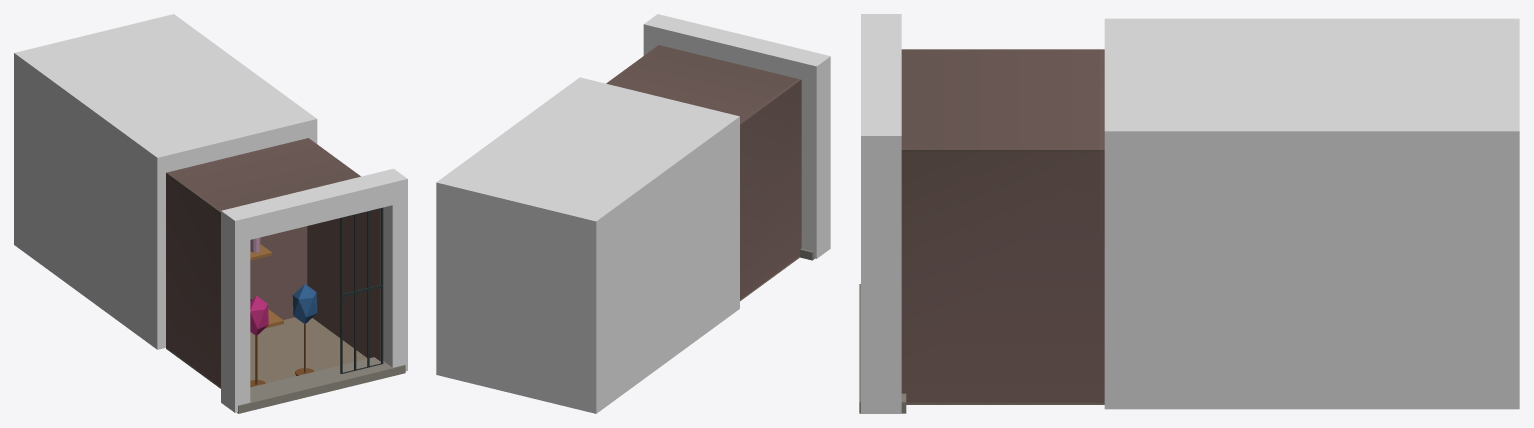
File: tret_tiem_may_32.glb
The picture shows the model from 3 angles, left to right: view 1: azimuth 30°, elevation 25°; view 2: azimuth 150°, elevation 25°; view 3: azimuth 270°, elevation 25°; orthographic projection. The views are drawn at different scales.
Visible parts, largest first — view 1: tret_tiem_may_32; view 2: tret_tiem_may_32; view 3: tret_tiem_may_32.
Boxes of the visible parts, x1,y1,x2,y2 form: tret_tiem_may_32: [14, 14, 407, 413]; tret_tiem_may_32: [436, 14, 830, 413]; tret_tiem_may_32: [859, 14, 1519, 413].
Size of the model in its own units: 3.2 by 3.42 by 7.32.
